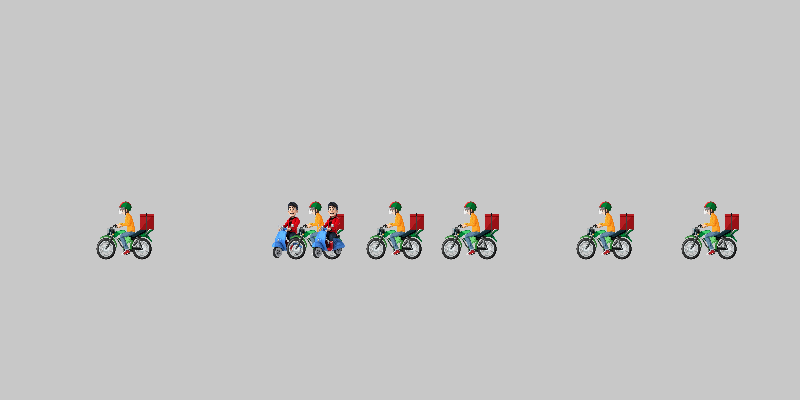helmet: (95, 200, 155, 260), (285, 200, 345, 260), (365, 200, 425, 260), (440, 200, 500, 260), (575, 200, 635, 260), (680, 200, 740, 260)
no_helmet: (260, 200, 320, 260), (300, 200, 360, 260)
